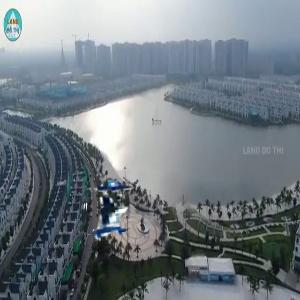drone: (39, 158, 152, 271)
